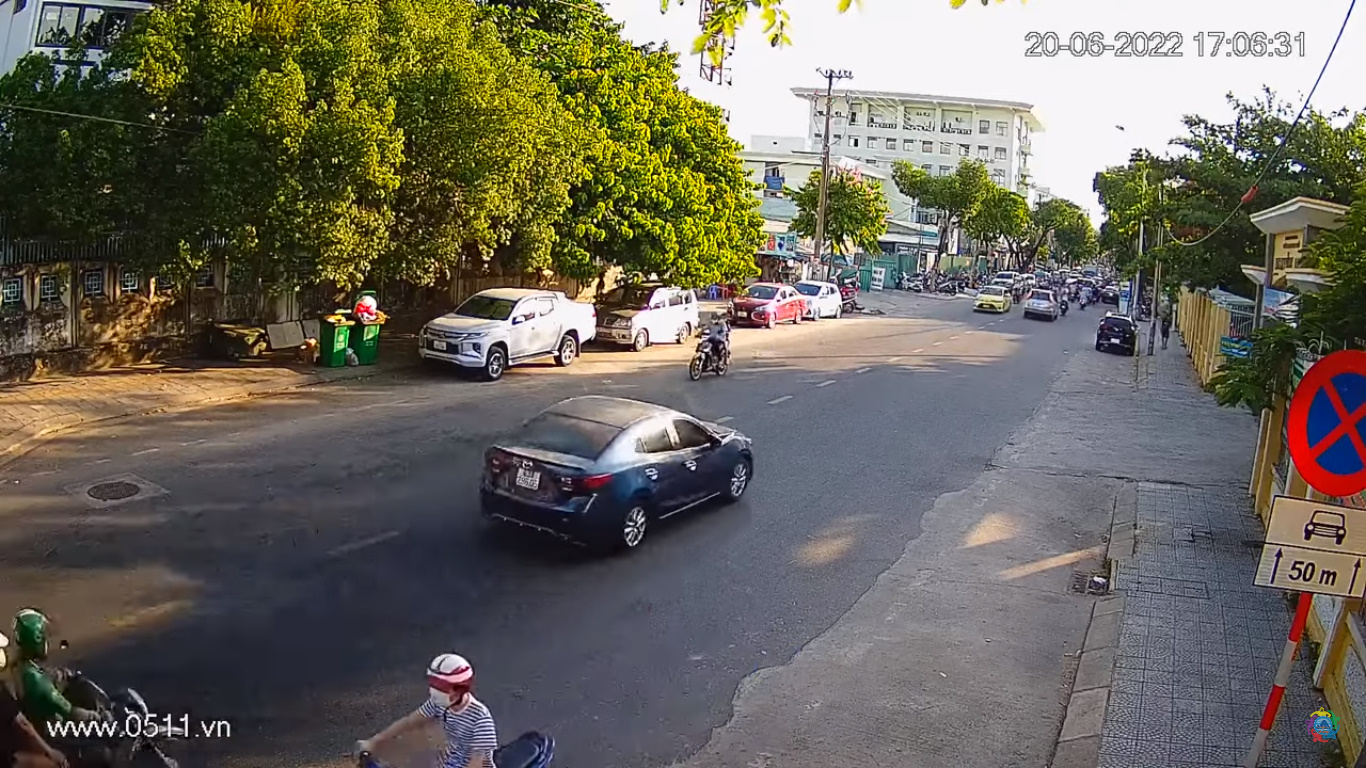car: (480, 392, 759, 557)
